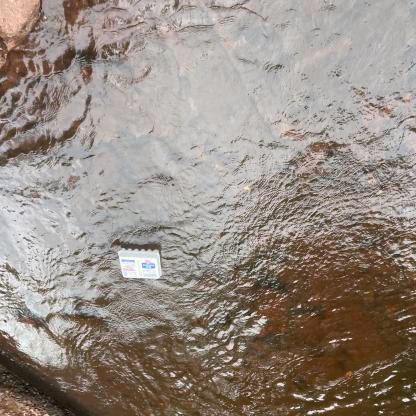Plastic: (114, 242, 165, 288)
